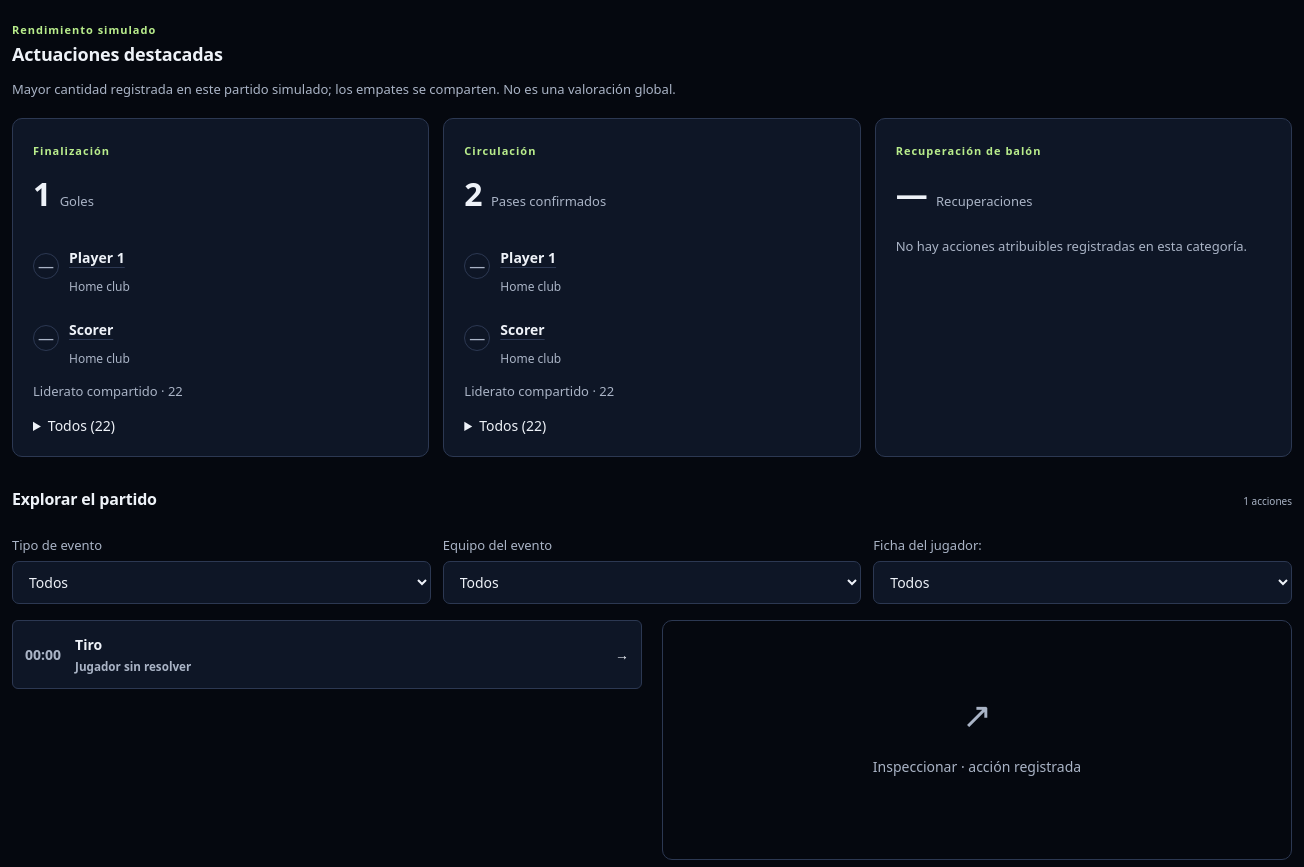
Test: translates the recorded held outcome without exposing raw codes
Click the button named "Inspeccionar Tiro": coordinates (43, 655) [12,620,642,689]
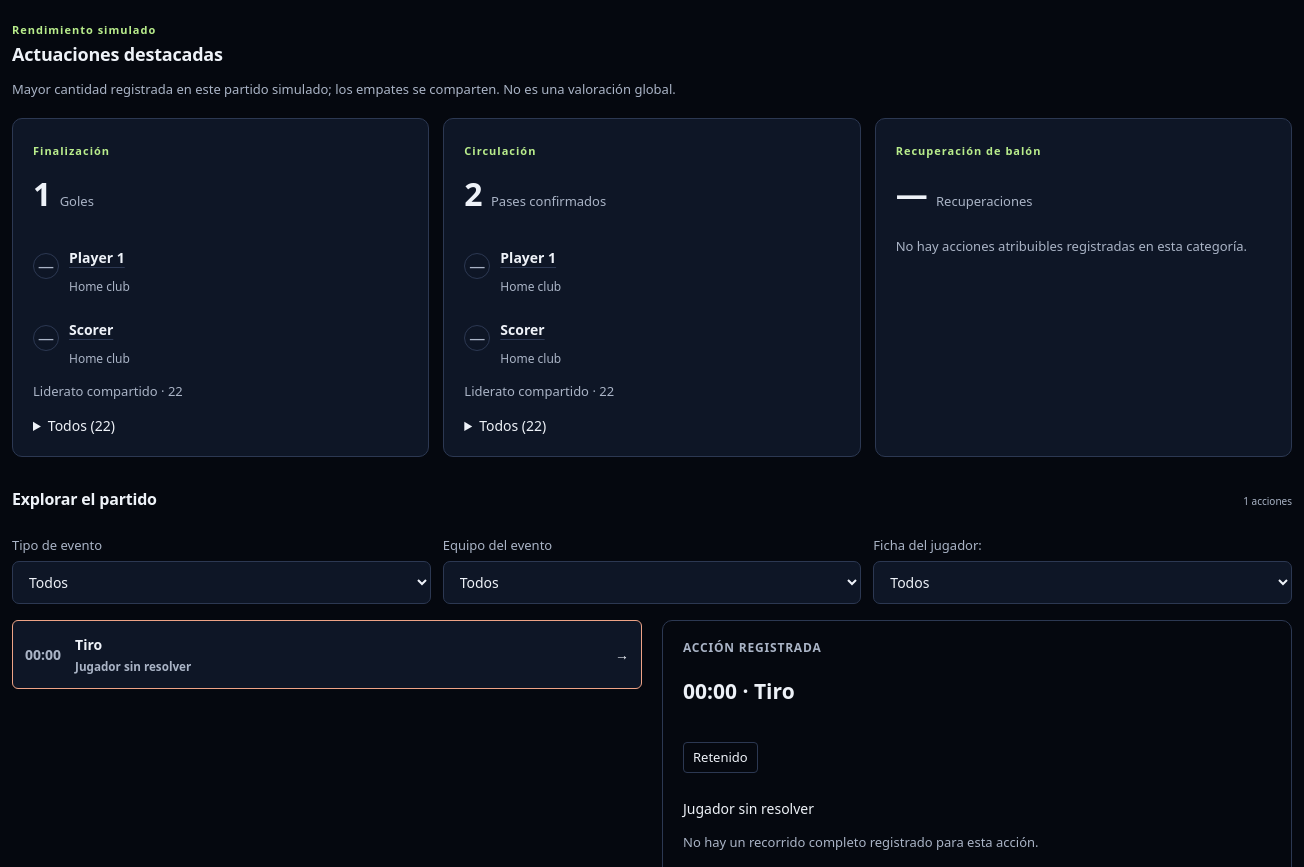
expect the text "Retenido" is shown: met, box [683,742,758,773]
